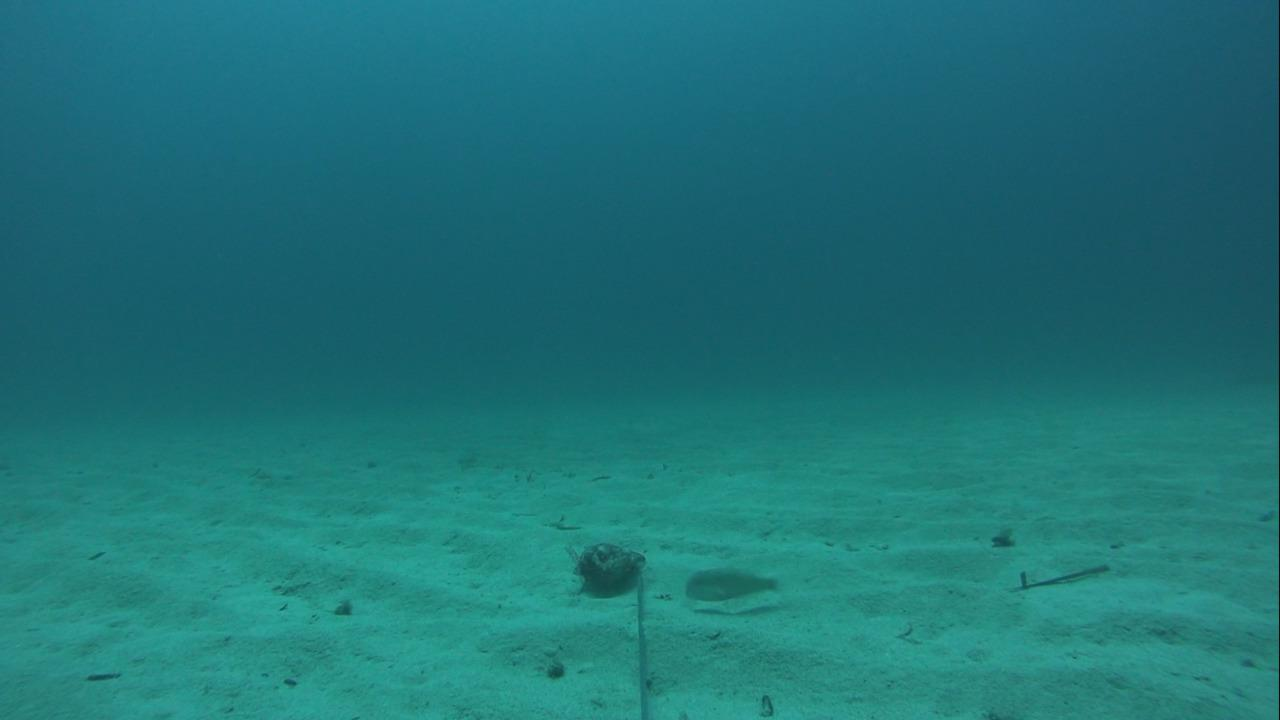raor: (678, 563, 784, 608)
